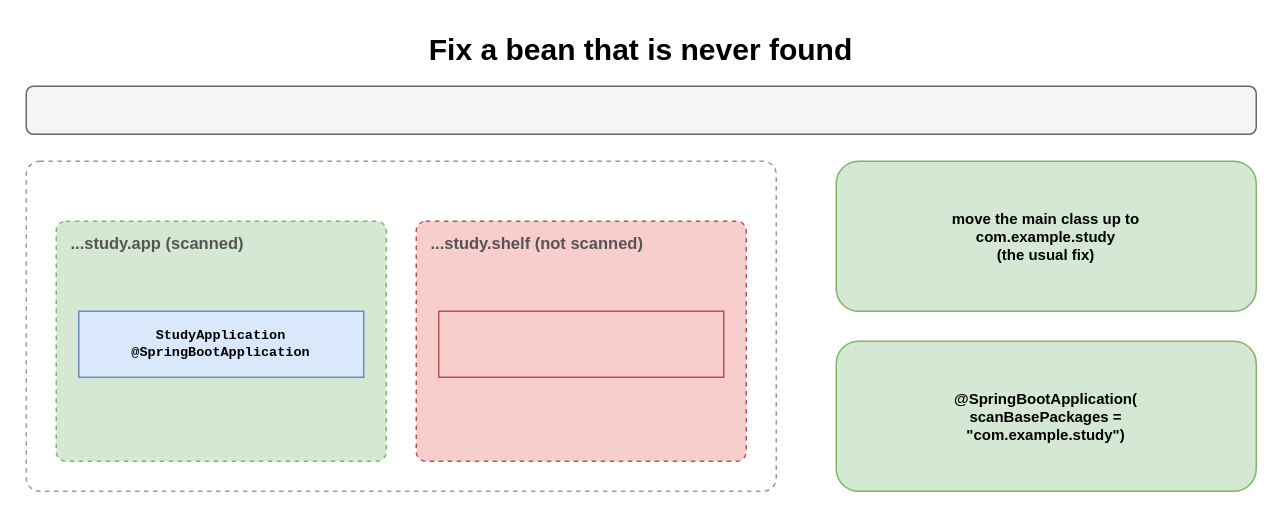
Image size: 1283x518. Some labels were removed from this diagram. The box of each missing label's shape, as (x1, y1, x2, y2) in pixels:
com.example.study: (25, 160, 776, 491)
Scanning starts at the main class's package: (25, 85, 1256, 134)
ShelfService: (437, 310, 724, 377)
